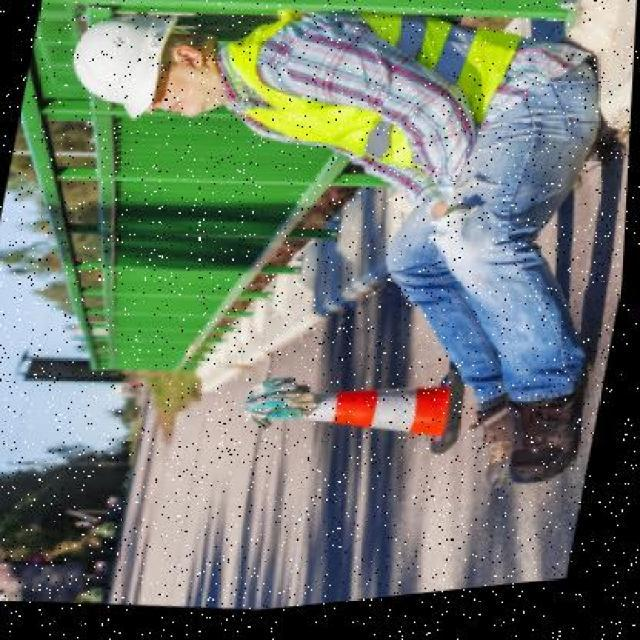helmet: (56, 0, 200, 138)
vest: (201, 0, 527, 204)
